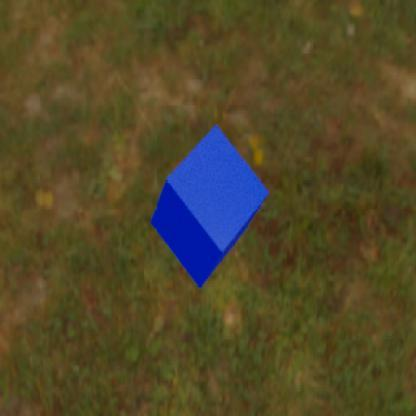blue_cube: (150, 123, 268, 288)
